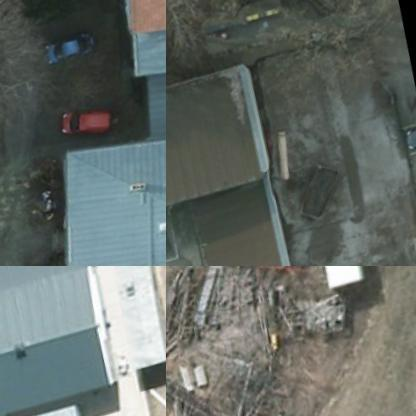camping car: (307, 266, 369, 299)
car: (58, 108, 122, 152), (38, 34, 98, 76)
